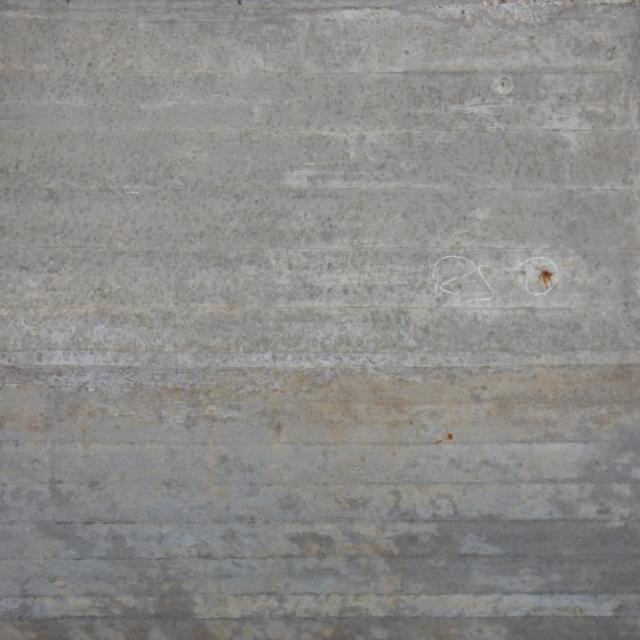corrosion: (536, 268, 557, 294), (427, 432, 460, 446)
